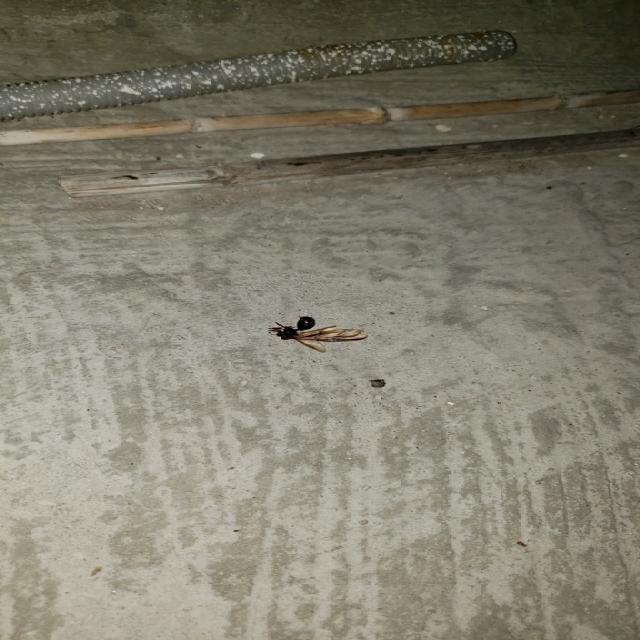Dead-Male-Alate: (268, 316, 368, 353)
